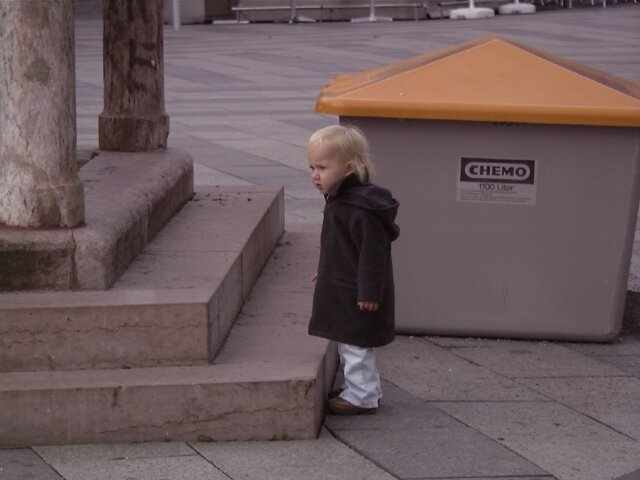person: (302, 116, 407, 422)
